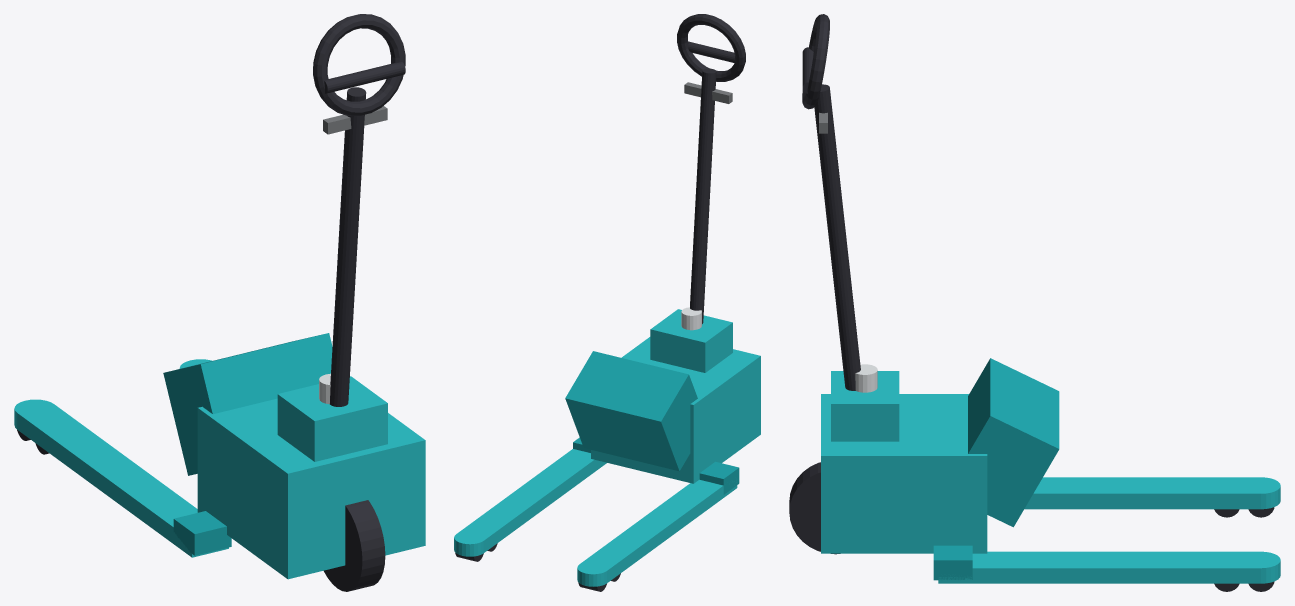
File: pallet_jack_parts.glb
The picture shows the model from 3 angles, left to right: view 1: azimuth 30°, elevation 25°; view 2: azimuth 150°, elevation 25°; view 3: azimuth 270°, elevation 25°; orthographic projection. The views are drawn at different scales.
Parts seen in each view (by area): view 1: Body_Hydraulic, Fork_Left, Handle_Column, Handle_Grip, Steering_Wheel; view 2: Body_Hydraulic, Fork_Left, Fork_Right, Handle_Column, Handle_Grip, Pump_Piston; view 3: Body_Hydraulic, Fork_Right, Fork_Left, Handle_Column, Steering_Wheel, Handle_Grip.
Part boxes in pixels (<box>): Body_Hydraulic: <box>163,333,425,579</box>; Fork_Left: <box>14,399,231,557</box>; Handle_Column: <box>323,87,387,406</box>; Handle_Grip: <box>313,14,405,116</box>; Steering_Wheel: <box>323,500,385,591</box>; Body_Hydraulic: <box>565,309,760,483</box>; Fork_Left: <box>577,461,739,586</box>; Fork_Right: <box>454,437,606,556</box>; Handle_Column: <box>684,68,732,323</box>; Handle_Grip: <box>677,14,745,81</box>; Pump_Piston: <box>681,307,701,330</box>; Body_Hydraulic: <box>821,358,1059,553</box>; Fork_Right: <box>933,545,1280,583</box>; Fork_Left: <box>1024,477,1280,509</box>; Handle_Column: <box>814,84,860,390</box>; Steering_Wheel: <box>789,462,840,554</box>; Handle_Grip: <box>802,14,829,109</box>.
Bounding box in the file's own units: 0.44 × 1.2 × 1.01.
